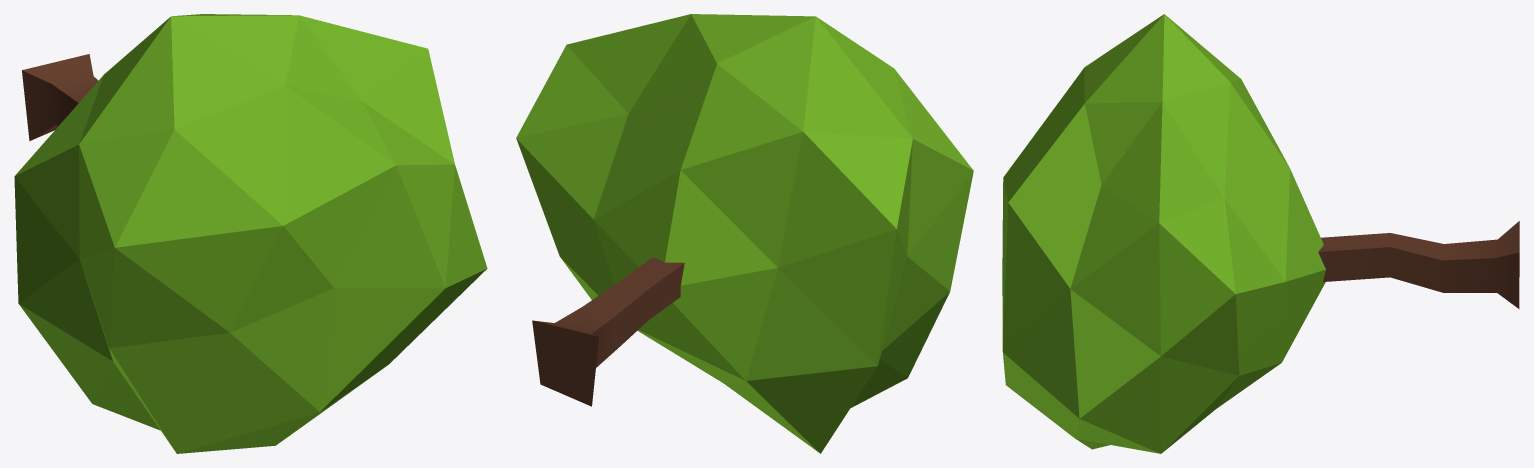
Rendered from custom_tree.fbx.
3 renders of one model, left to right at view 1: azimuth 30°, elevation 25°; view 2: azimuth 150°, elevation 25°; view 3: azimuth 270°, elevation 25°, orthographic. The views are drawn at different scales.
Parts seen in each view (by area): view 1: custom_tree; view 2: custom_tree; view 3: custom_tree.
Boxes of the visible parts, box(x1,y1,x2,y2) form: custom_tree: box(14, 14, 487, 453); custom_tree: box(516, 14, 973, 453); custom_tree: box(1002, 14, 1519, 453).
Bounding box in the file's own units: 502 × 519 × 595.
